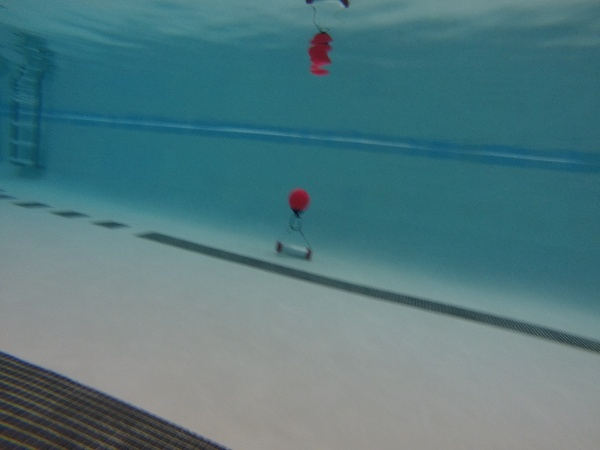buoy_red: (286, 187, 310, 221)
